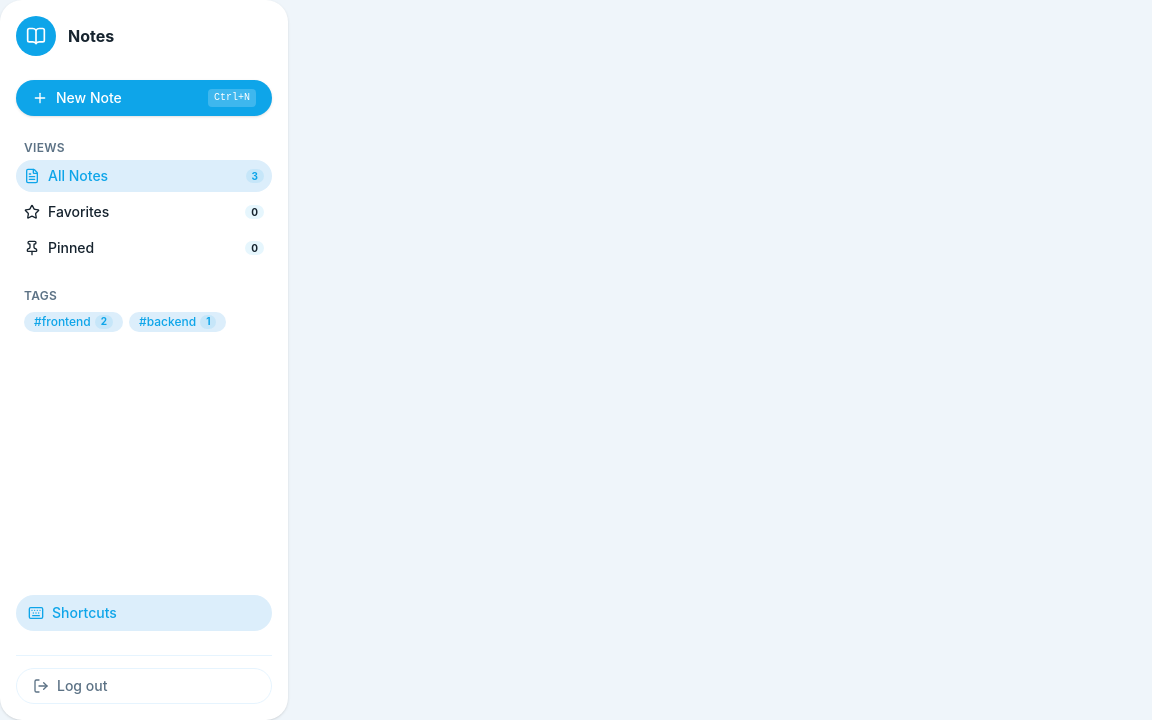
Test: Sidebar › opens the shortcuts modal from the Shortcuts button
Expected: the text "Keyboard Shortcuts" is not shown
Click the button "Shortcuts": (144, 613) [16,595,272,631]
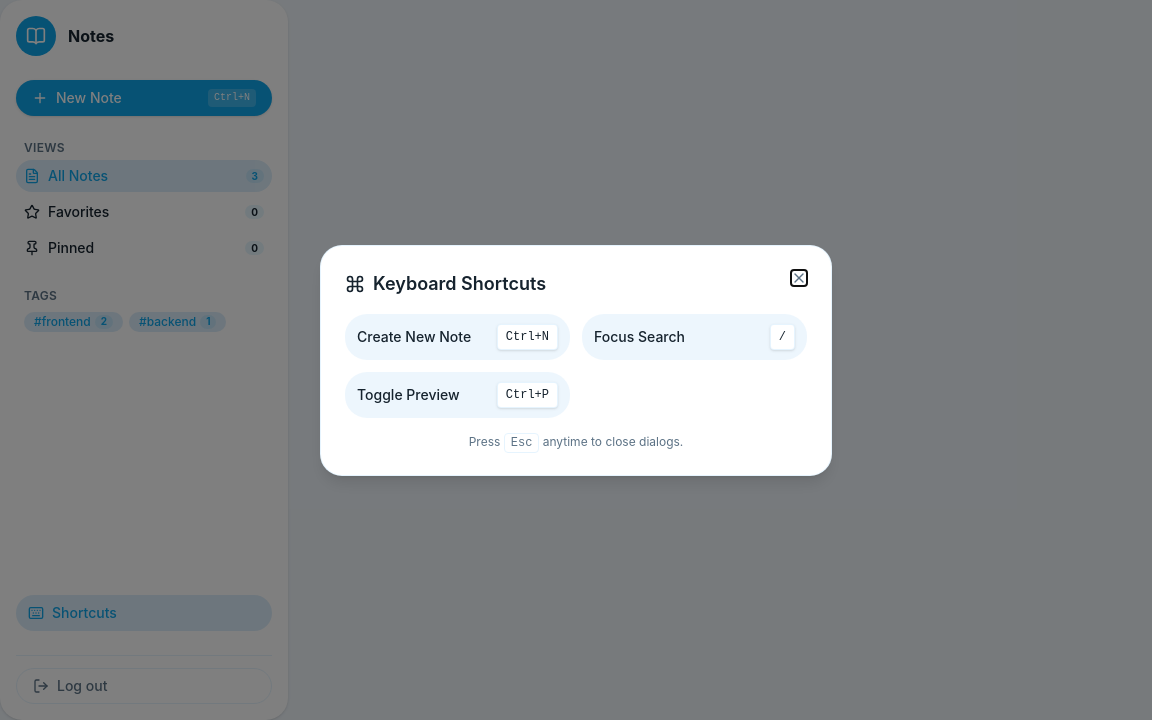
Now the heading "Keyboard Shortcuts" is shown, box [345,270,546,298]
